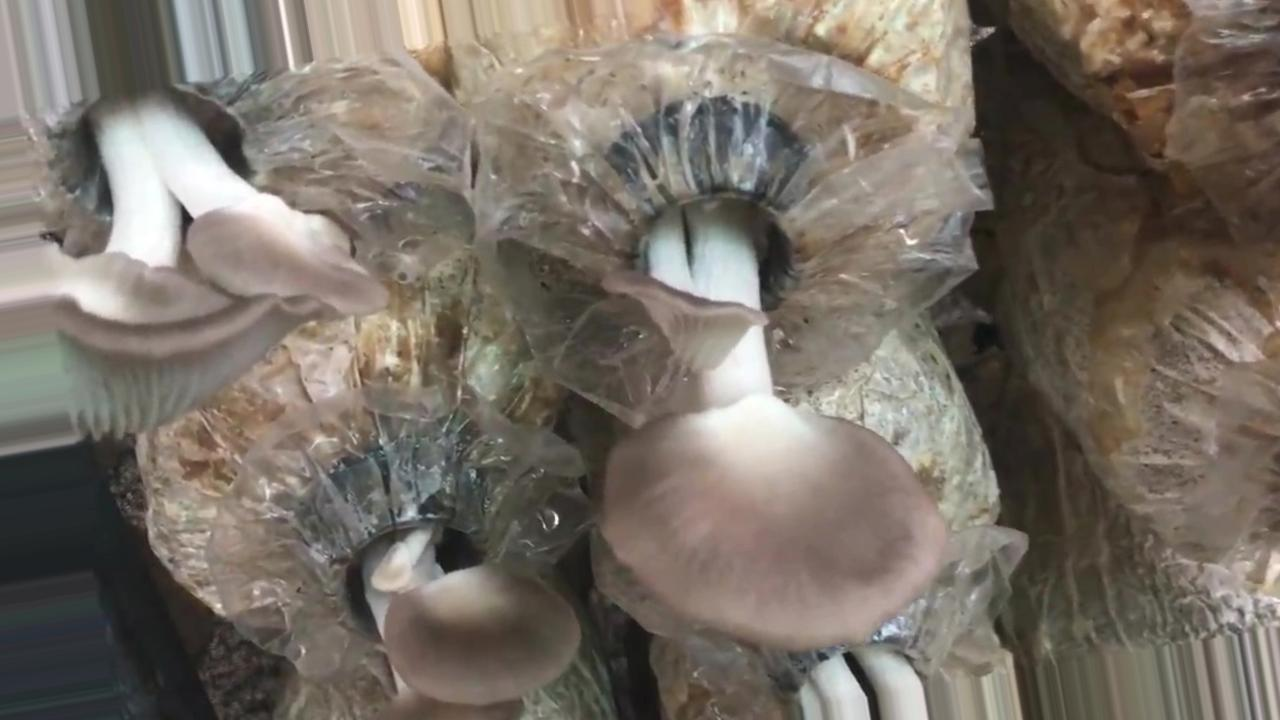nam: (598, 146, 946, 649), (61, 95, 391, 423), (312, 459, 580, 720)
